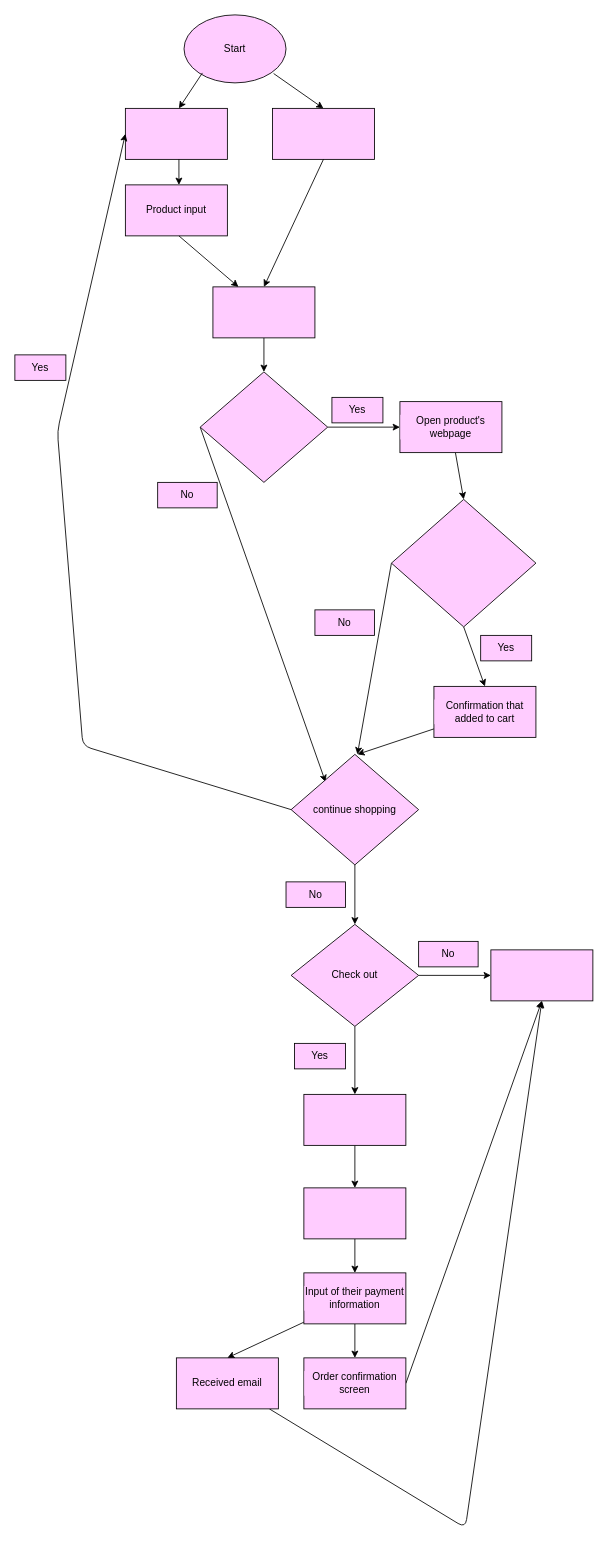
Image size: 608x1550. Some labels were removed from this diagram. Here are the shapes that lost their labels. From the top down, the centre of each, then its label:
point (176, 133): Searching for a product
point (323, 133): exploring the products on the home page
point (263, 312): Look over products
point (263, 426): viewing a specific product
point (463, 563): Add this product to cart
point (541, 975): Leave the website
point (354, 1119): View cart screen
point (354, 1213): View payment screen
